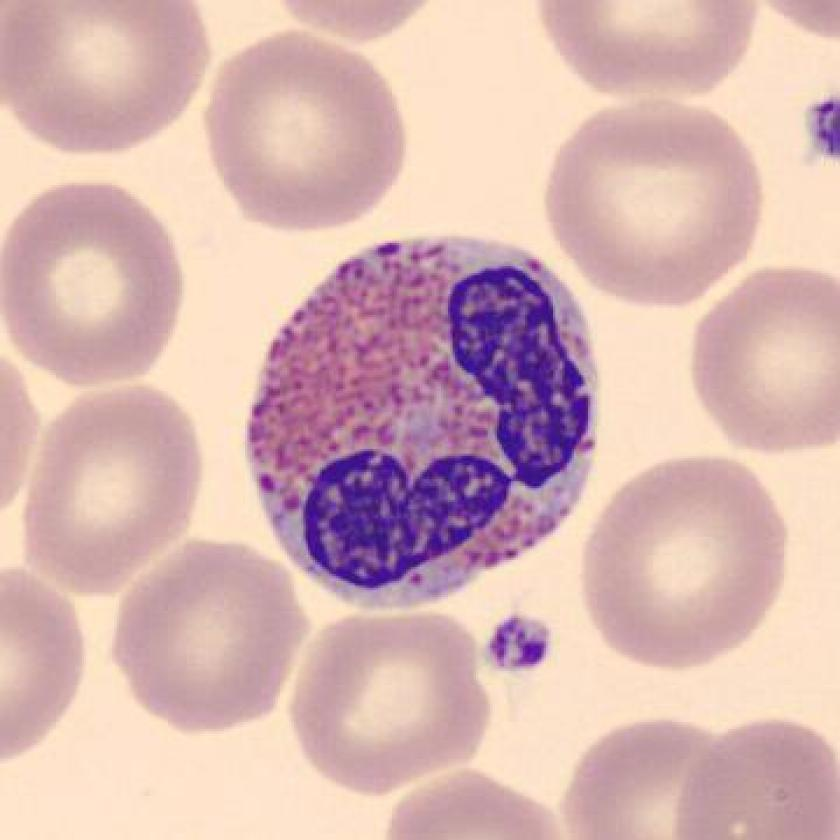eosinophil: (232, 221, 617, 628)
